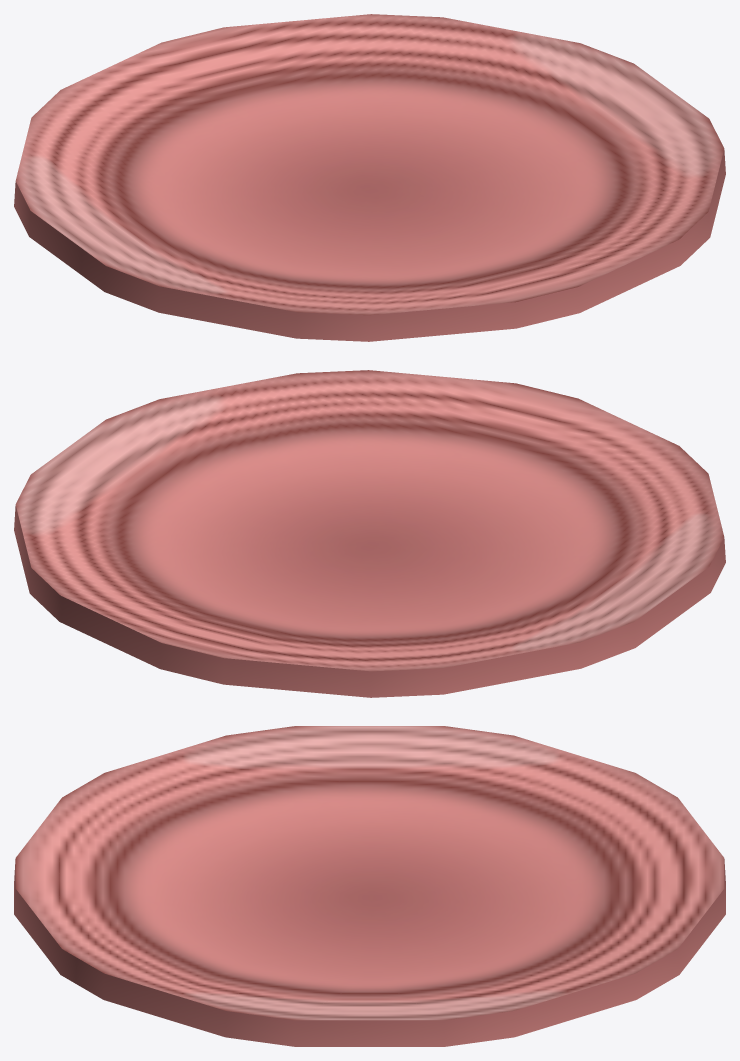
Rendered from Plate_D.FBX.
The picture shows the model from 3 angles, top to bottom: view 1: azimuth 30°, elevation 25°; view 2: azimuth 150°, elevation 25°; view 3: azimuth 270°, elevation 25°; orthographic projection.
Parts seen in each view (by area): view 1: Plate; view 2: Plate; view 3: Plate.
Part boxes in pixels (left/top/right/bottom): Plate: left=14, top=14, right=725, bottom=341; Plate: left=14, top=370, right=725, bottom=697; Plate: left=14, top=726, right=725, bottom=1046.
Size of the model in its own units: 105 by 4.28 by 107.
